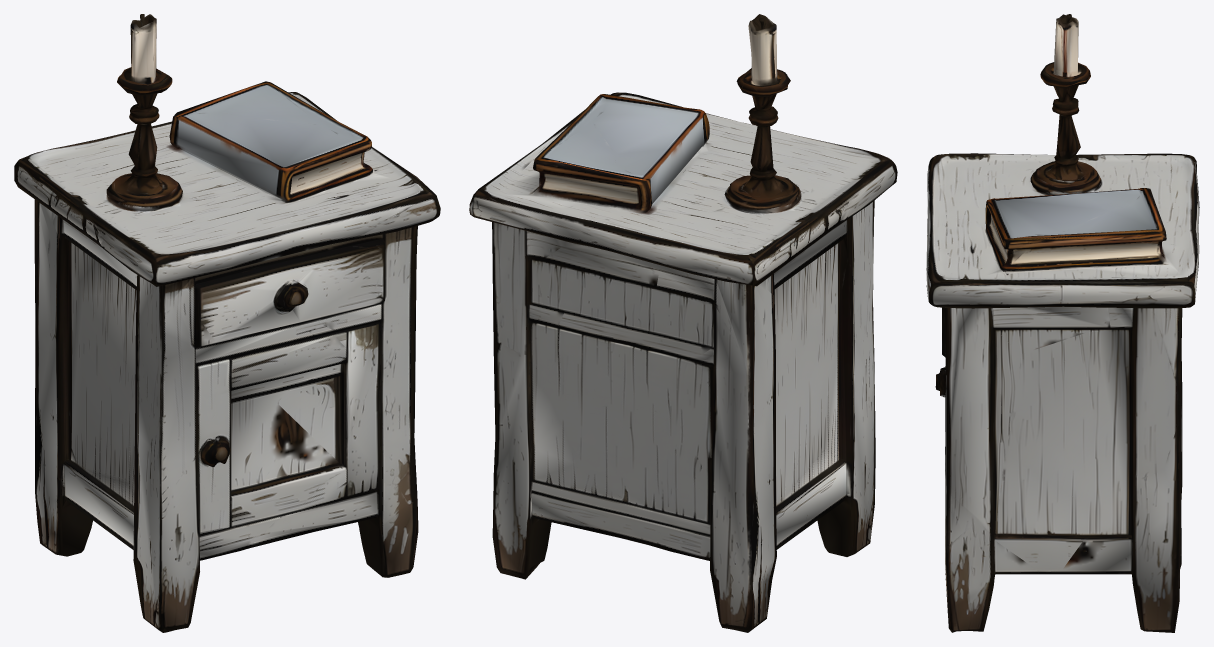
The model's file is lhi_nightstand.glb.
The picture shows the model from 3 angles, left to right: view 1: azimuth 30°, elevation 25°; view 2: azimuth 150°, elevation 25°; view 3: azimuth 270°, elevation 25°; orthographic projection. The views are drawn at different scales.
Visible parts, largest first — view 1: material; view 2: material; view 3: material.
Boxes of the visible parts, x1,y1,x2,y2 form: material: [14, 14, 440, 632]; material: [469, 14, 897, 632]; material: [926, 14, 1199, 632].
Size of the model in its own units: 0.552 by 1.03 by 0.4855.
1 material, 1 textured.
